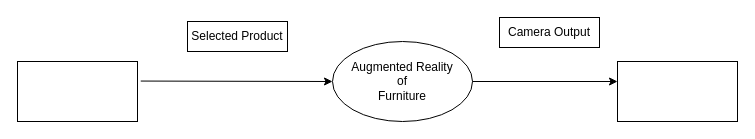
Some shapes in this 755 by 139 pixel diagram are drawn without their labels. Each missing label, with the centre of its shape:
"AR View of Furniture" goes at pixel 677 91.
"Categories of Furniture" goes at pixel 77 91.
